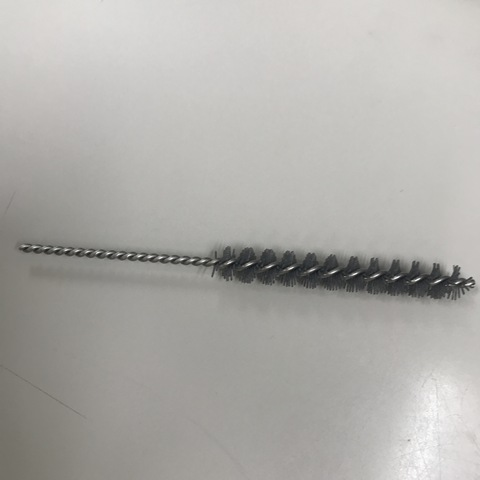Twist Brush-A: (20, 238, 475, 302)
